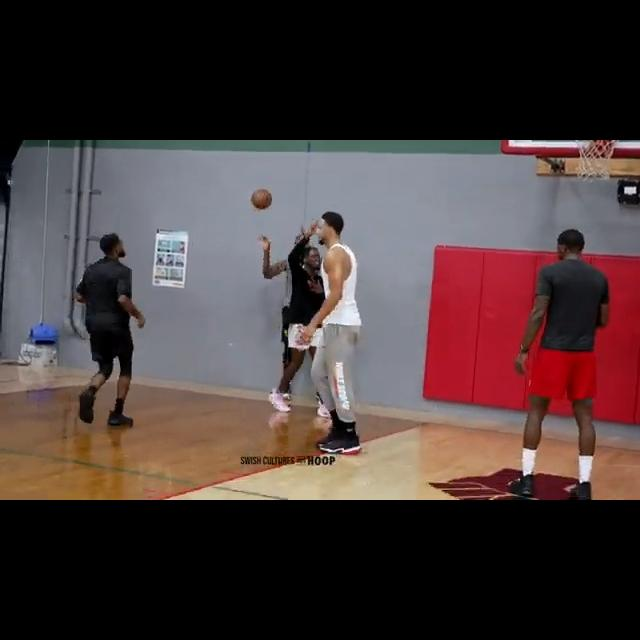basketball: (251, 188, 274, 209)
hoop: (577, 141, 616, 183)
